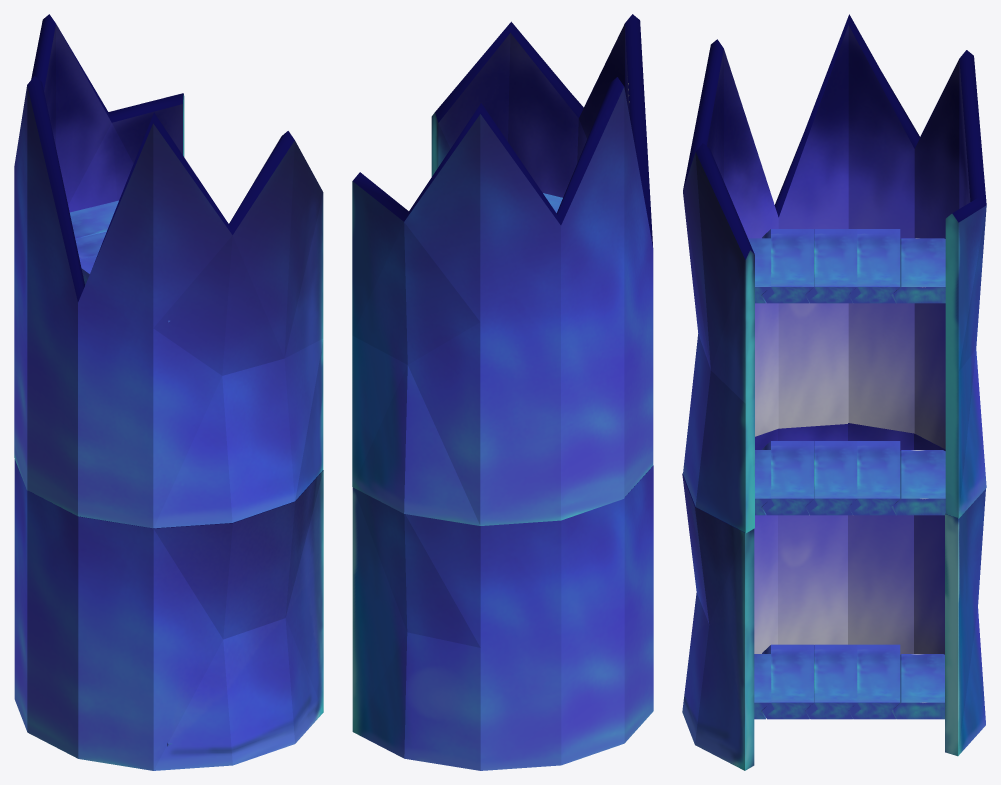
The model's file is 2  changjing.FBX.
3 views of the same model, side by side, from view 1: azimuth 30°, elevation 25°; view 2: azimuth 150°, elevation 25°; view 3: azimuth 270°, elevation 25° (orthographic). The views are drawn at different scales.
Parts seen in each view (by area): view 1: Cylinder006, Cylinder005, Box007, Box006; view 2: Cylinder006, Cylinder005; view 3: Cylinder006, Cylinder005, Box015, Box016, Box014, Box005, Box010, Box006, Box004, Box011, Box009, Box007 (+5 smaller).
Boxes of the visible parts, x1,y1,x2,y2 form: Cylinder006: [14, 14, 323, 528]; Cylinder005: [14, 459, 323, 770]; Box007: [70, 200, 118, 238]; Box006: [75, 231, 106, 259]; Cylinder006: [352, 14, 653, 525]; Cylinder005: [352, 465, 653, 770]; Cylinder006: [683, 14, 986, 533]; Cylinder005: [682, 423, 985, 770]; Box015: [805, 644, 857, 719]; Box016: [848, 644, 900, 719]; Box014: [762, 644, 813, 719]; Box005: [805, 229, 857, 303]; Box010: [805, 441, 857, 515]; Box006: [848, 229, 900, 303]; Box004: [762, 229, 813, 303]; Box011: [848, 441, 900, 515]; Box009: [762, 441, 813, 515]; Box007: [891, 238, 945, 303].
Size of the model in its own units: 3921 by 10099 by 4327.
